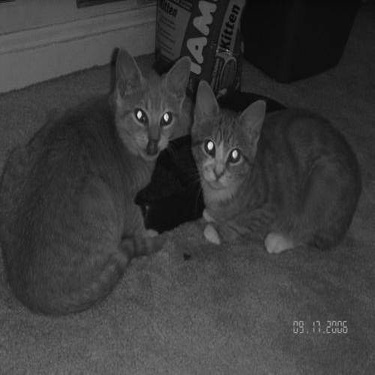cat: (6, 46, 190, 319), (192, 78, 358, 255)
